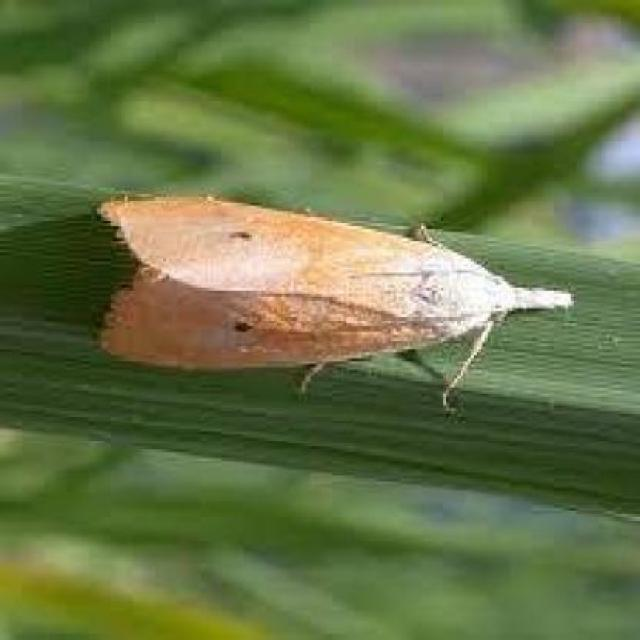stem-borer: (88, 191, 577, 374)
